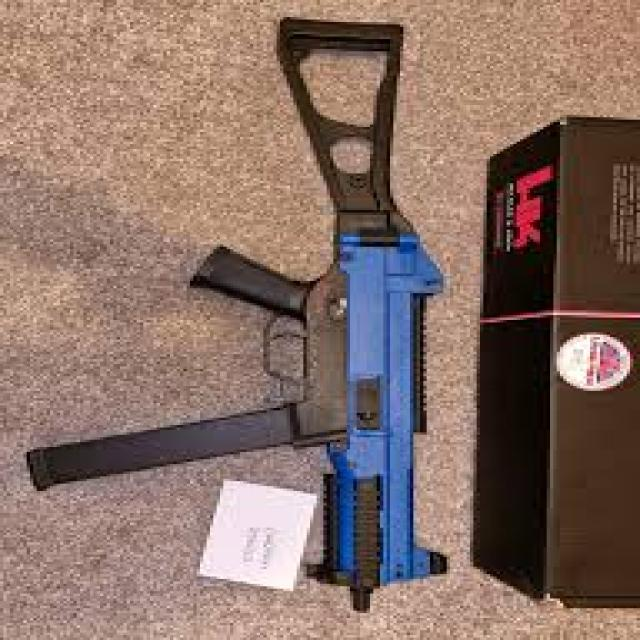Gun: (41, 0, 450, 640)
